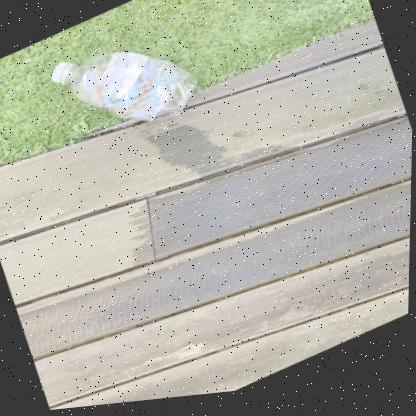Plastic: (52, 54, 197, 125)
